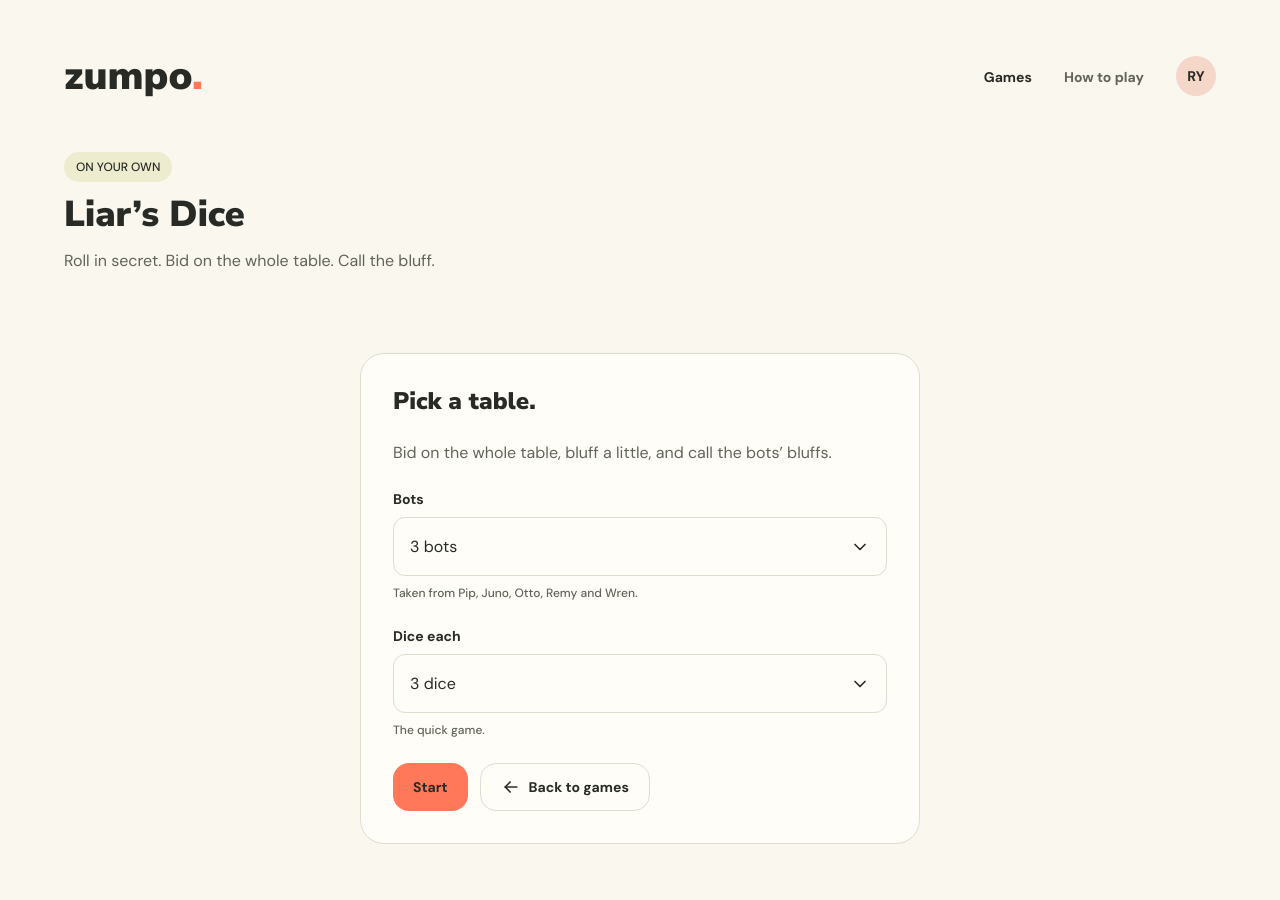
Test: Liar’s Dice on your own › waits for you, and says what a bot bid
Click the button "Start".
click(430, 787)  # box [393,763,468,811]
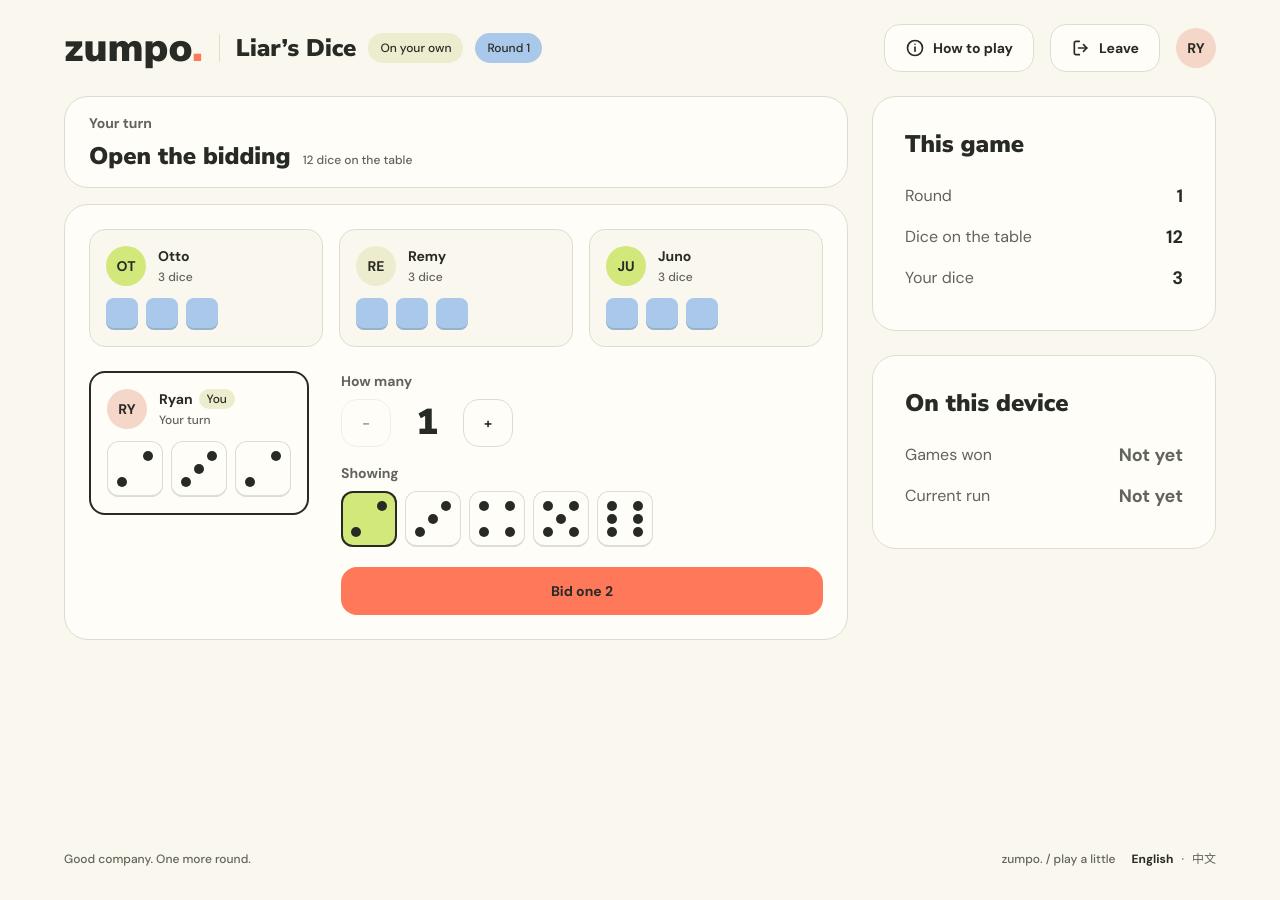
Expected: the 1st text "Your turn" is shown, [89,114,152,132]
